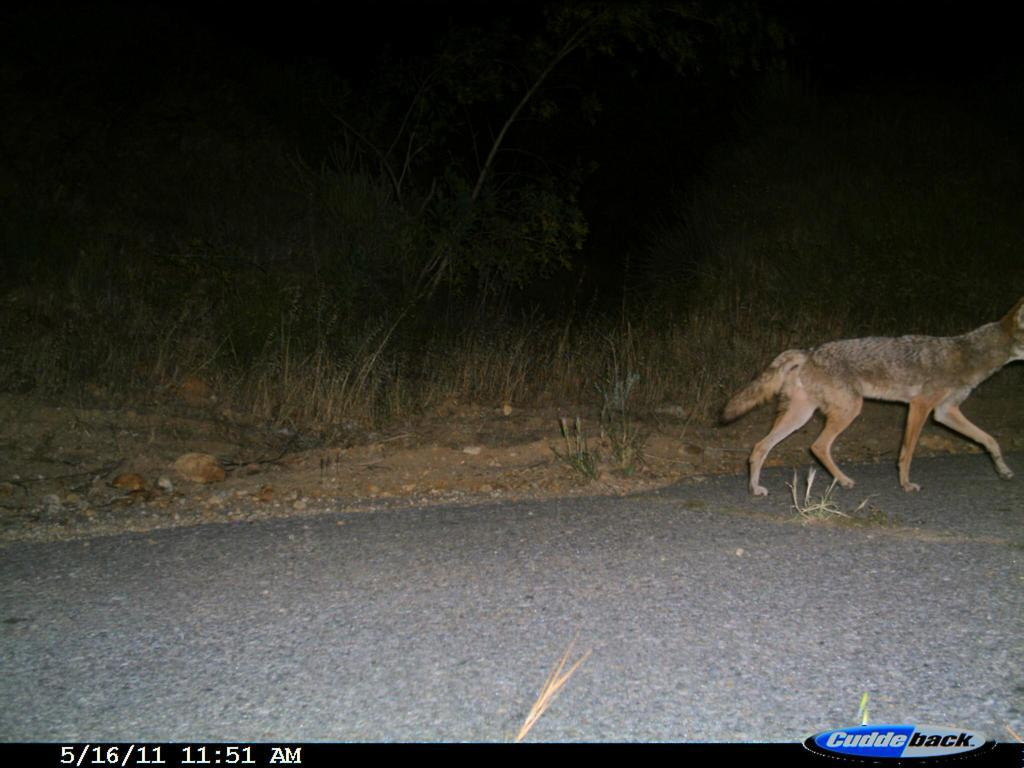coyote: (717, 294, 1024, 501)
